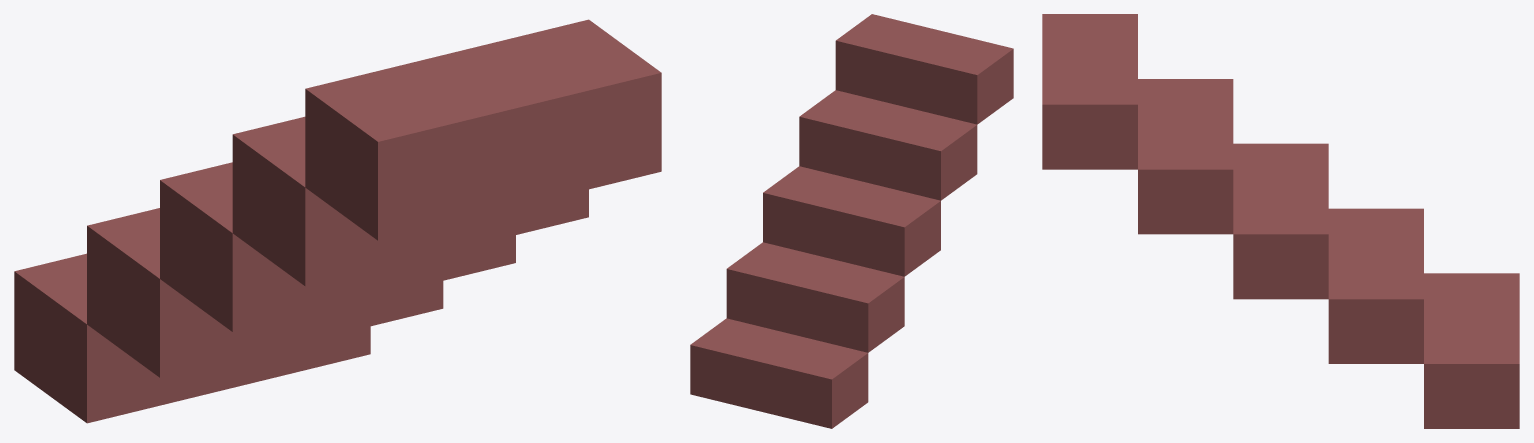
The model's file is STAIR_002.glb.
3 views of the same model, side by side, from view 1: azimuth 30°, elevation 25°; view 2: azimuth 150°, elevation 25°; view 3: azimuth 270°, elevation 25° (orthographic). The views are drawn at different scales.
Visible parts, largest first — view 1: Granite stair section step 5, Granite stair section step 4, Granite stair section step 1, Granite stair section step 2, Granite stair section step 3; view 2: Granite stair section step 1, Granite stair section step 2, Granite stair section step 4, Granite stair section step 5, Granite stair section step 3; view 3: Granite stair section step 3, Granite stair section step 1, Granite stair section step 5, Granite stair section step 2, Granite stair section step 4.
Boxes of the visible parts, x1,y1,x2,y2 form: Granite stair section step 5: (305,19,661,240); Granite stair section step 4: (232,116,588,286); Granite stair section step 1: (14,253,370,423); Granite stair section step 2: (87,208,443,377); Granite stair section step 3: (160,162,515,331); Granite stair section step 1: (690,318,868,428); Granite stair section step 2: (726,242,904,352); Granite stair section step 4: (799,90,977,200); Granite stair section step 5: (835,14,1013,124); Granite stair section step 3: (763,166,940,276); Granite stair section step 3: (1233,143,1328,299); Granite stair section step 1: (1424,273,1519,428); Granite stair section step 5: (1042,14,1137,169); Granite stair section step 2: (1328,208,1423,363); Granite stair section step 4: (1138,79,1233,234).
Size of the model in its own units: 0.9 by 1.5 by 2.
